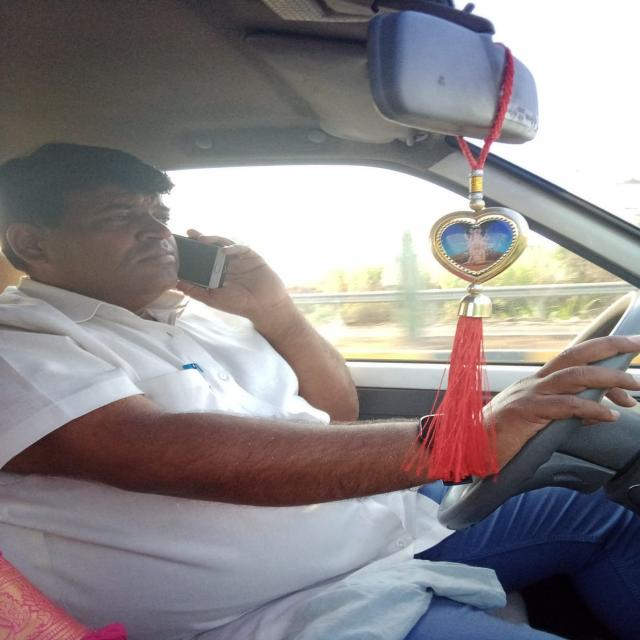mobile: (168, 234, 240, 311)
person: (1, 142, 190, 304)
